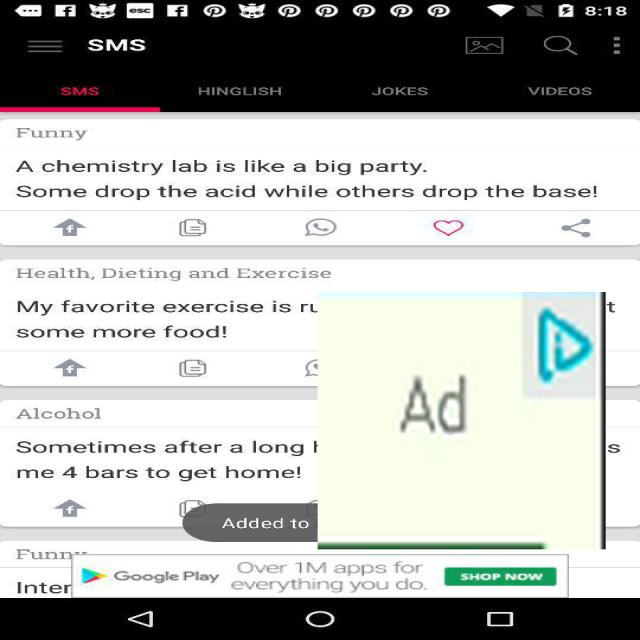sneaking: (318, 292, 606, 549)
